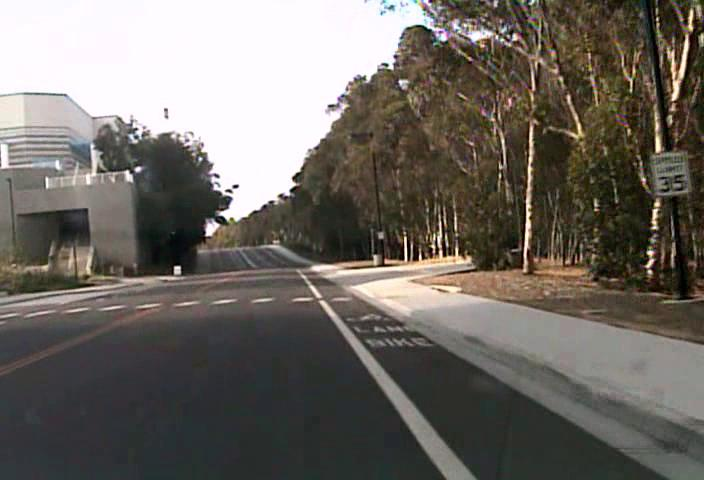speedLimit35: (649, 148, 692, 197)
